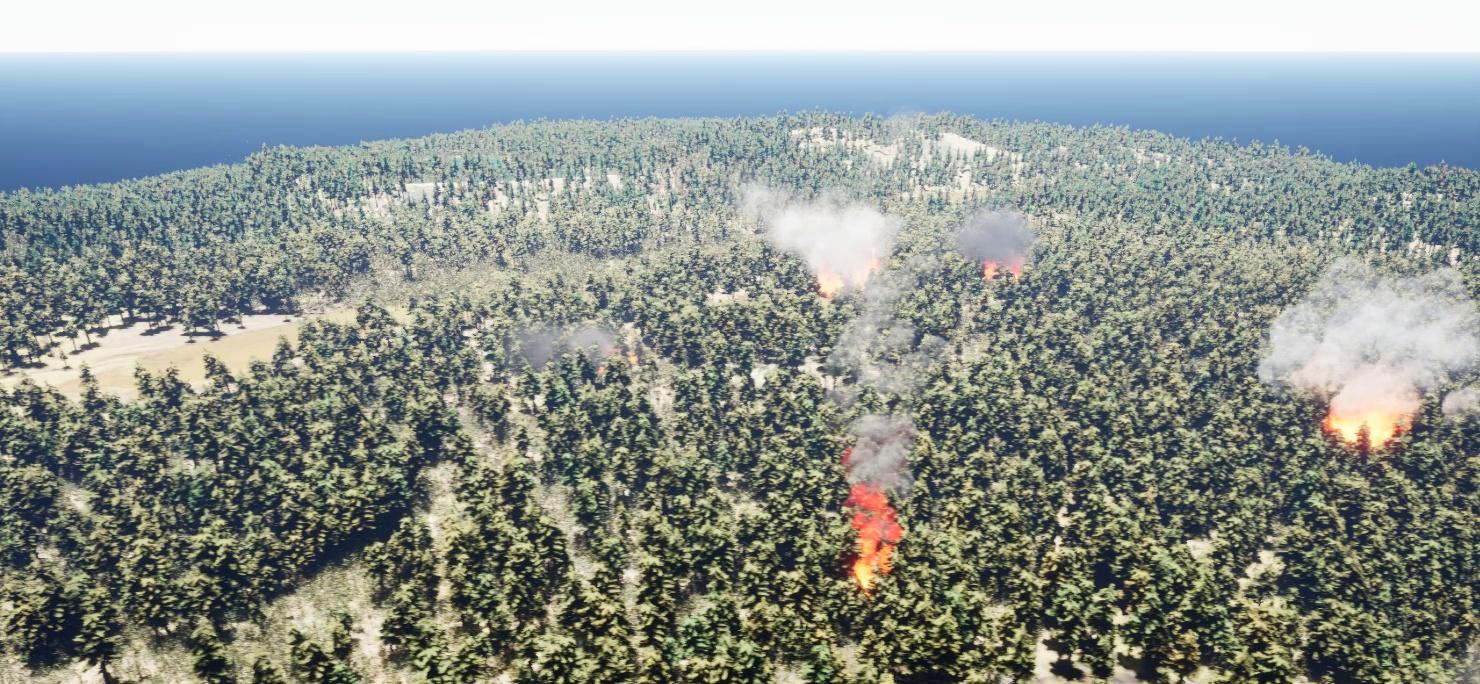fire: (850, 491, 904, 593), (1319, 411, 1432, 447), (983, 255, 1022, 278)
smoke: (737, 175, 924, 486), (1253, 263, 1479, 427), (517, 314, 635, 365), (958, 206, 1032, 283)
